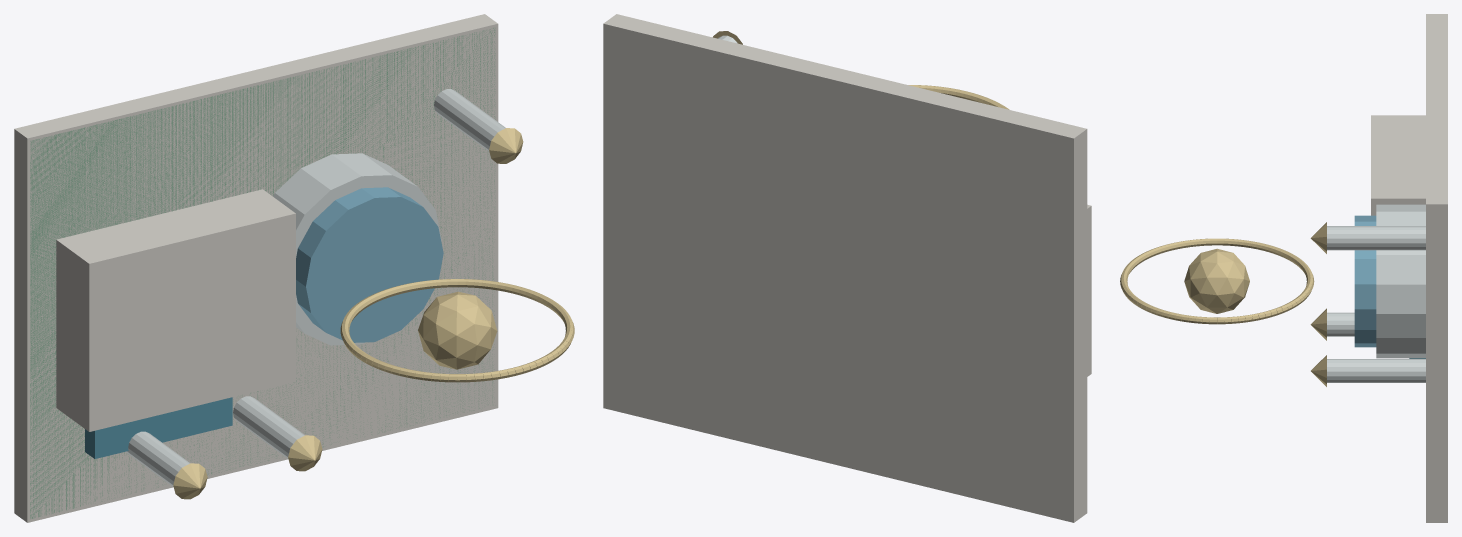
Rendered from tropic_cancer_solar.glb.
3 renders of one model, left to right at view 1: azimuth 30°, elevation 25°; view 2: azimuth 150°, elevation 25°; view 3: azimuth 270°, elevation 25°, orthographic. The views are drawn at different scales.
Parts seen in each view (by area): view 1: g0, g1, g2, g4, g3, g89, g96, g92, g94, g90, g93, g91 (+1 smaller); view 2: g0, g2; view 3: g0, g3, g2, g89, g4, g94, g92, g90.
Part boxes in pixels (bbox=[...]): g0: bbox=[14, 14, 498, 522]; g1: bbox=[30, 28, 495, 518]; g2: bbox=[56, 189, 295, 431]; g4: bbox=[296, 187, 443, 342]; g3: bbox=[273, 153, 441, 345]; g89: bbox=[418, 291, 497, 369]; g96: bbox=[85, 397, 232, 458]; g92: bbox=[233, 396, 304, 458]; g94: bbox=[434, 89, 505, 151]; g90: bbox=[125, 431, 190, 486]; g93: bbox=[288, 435, 322, 471]; g91: bbox=[173, 463, 207, 499]; g0: bbox=[603, 14, 1087, 522]; g2: bbox=[1087, 204, 1091, 376]; g0: bbox=[1426, 14, 1447, 522]; g3: bbox=[1376, 204, 1425, 358]; g2: bbox=[1371, 115, 1425, 215]; g89: bbox=[1184, 248, 1249, 313]; g4: bbox=[1354, 215, 1376, 347]; g94: bbox=[1327, 226, 1425, 250]; g92: bbox=[1327, 359, 1425, 382]; g90: bbox=[1327, 312, 1354, 336].
Bounding box in the file's own units: 82 × 64 × 59.67.
